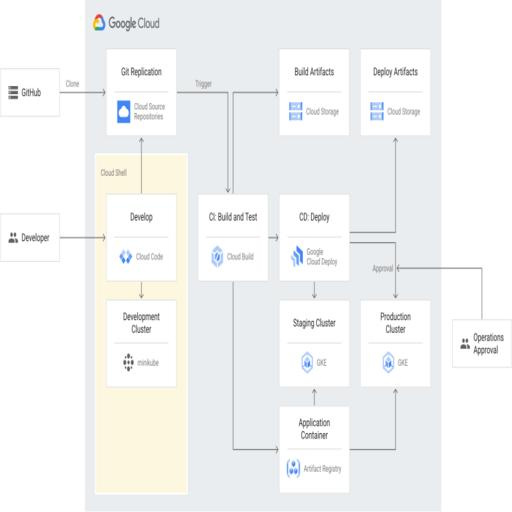actor: (0, 66, 61, 118), (0, 210, 61, 261), (451, 318, 512, 368)
compute: (108, 51, 180, 133), (108, 194, 180, 276), (108, 302, 180, 384), (194, 194, 266, 276), (276, 194, 348, 276), (276, 302, 348, 384), (358, 302, 430, 384)
data_flow: (230, 282, 236, 446), (400, 266, 482, 272), (226, 98, 230, 190), (392, 146, 396, 228), (141, 134, 146, 194), (392, 374, 396, 446), (348, 240, 394, 246), (479, 269, 484, 320), (348, 228, 394, 233), (226, 90, 282, 94), (62, 233, 102, 238), (179, 90, 225, 94), (348, 446, 394, 450), (233, 446, 274, 450), (62, 90, 102, 94), (141, 282, 146, 302), (310, 282, 315, 302), (310, 384, 315, 404), (266, 233, 276, 238)
database_storage: (276, 51, 348, 133), (358, 51, 430, 133), (276, 410, 348, 492)
trust_boundary: (84, 2, 438, 510), (95, 154, 187, 492)
